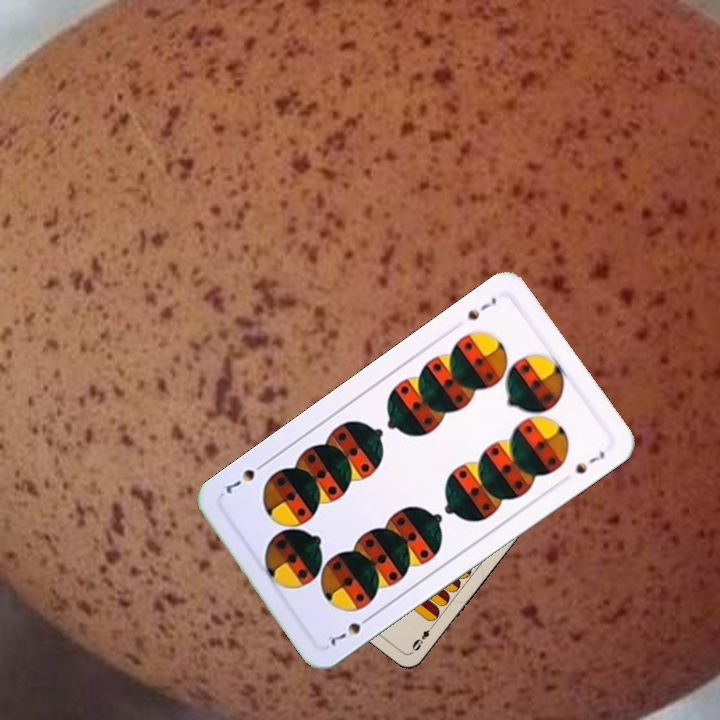E9: (408, 620, 437, 655)
S7: (324, 611, 376, 648), (463, 293, 500, 323)
